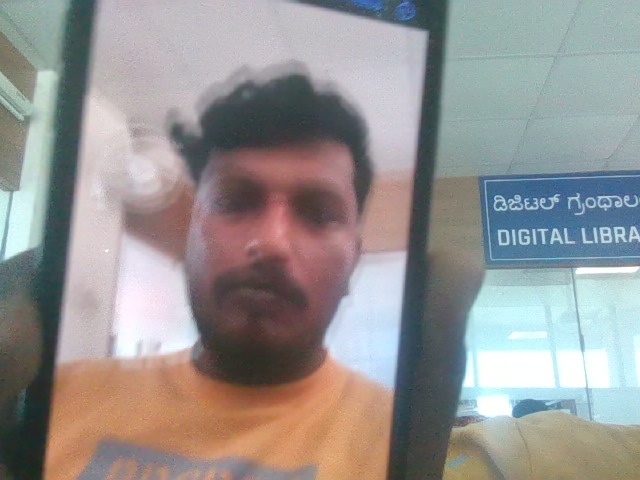fake: (159, 50, 391, 379)
